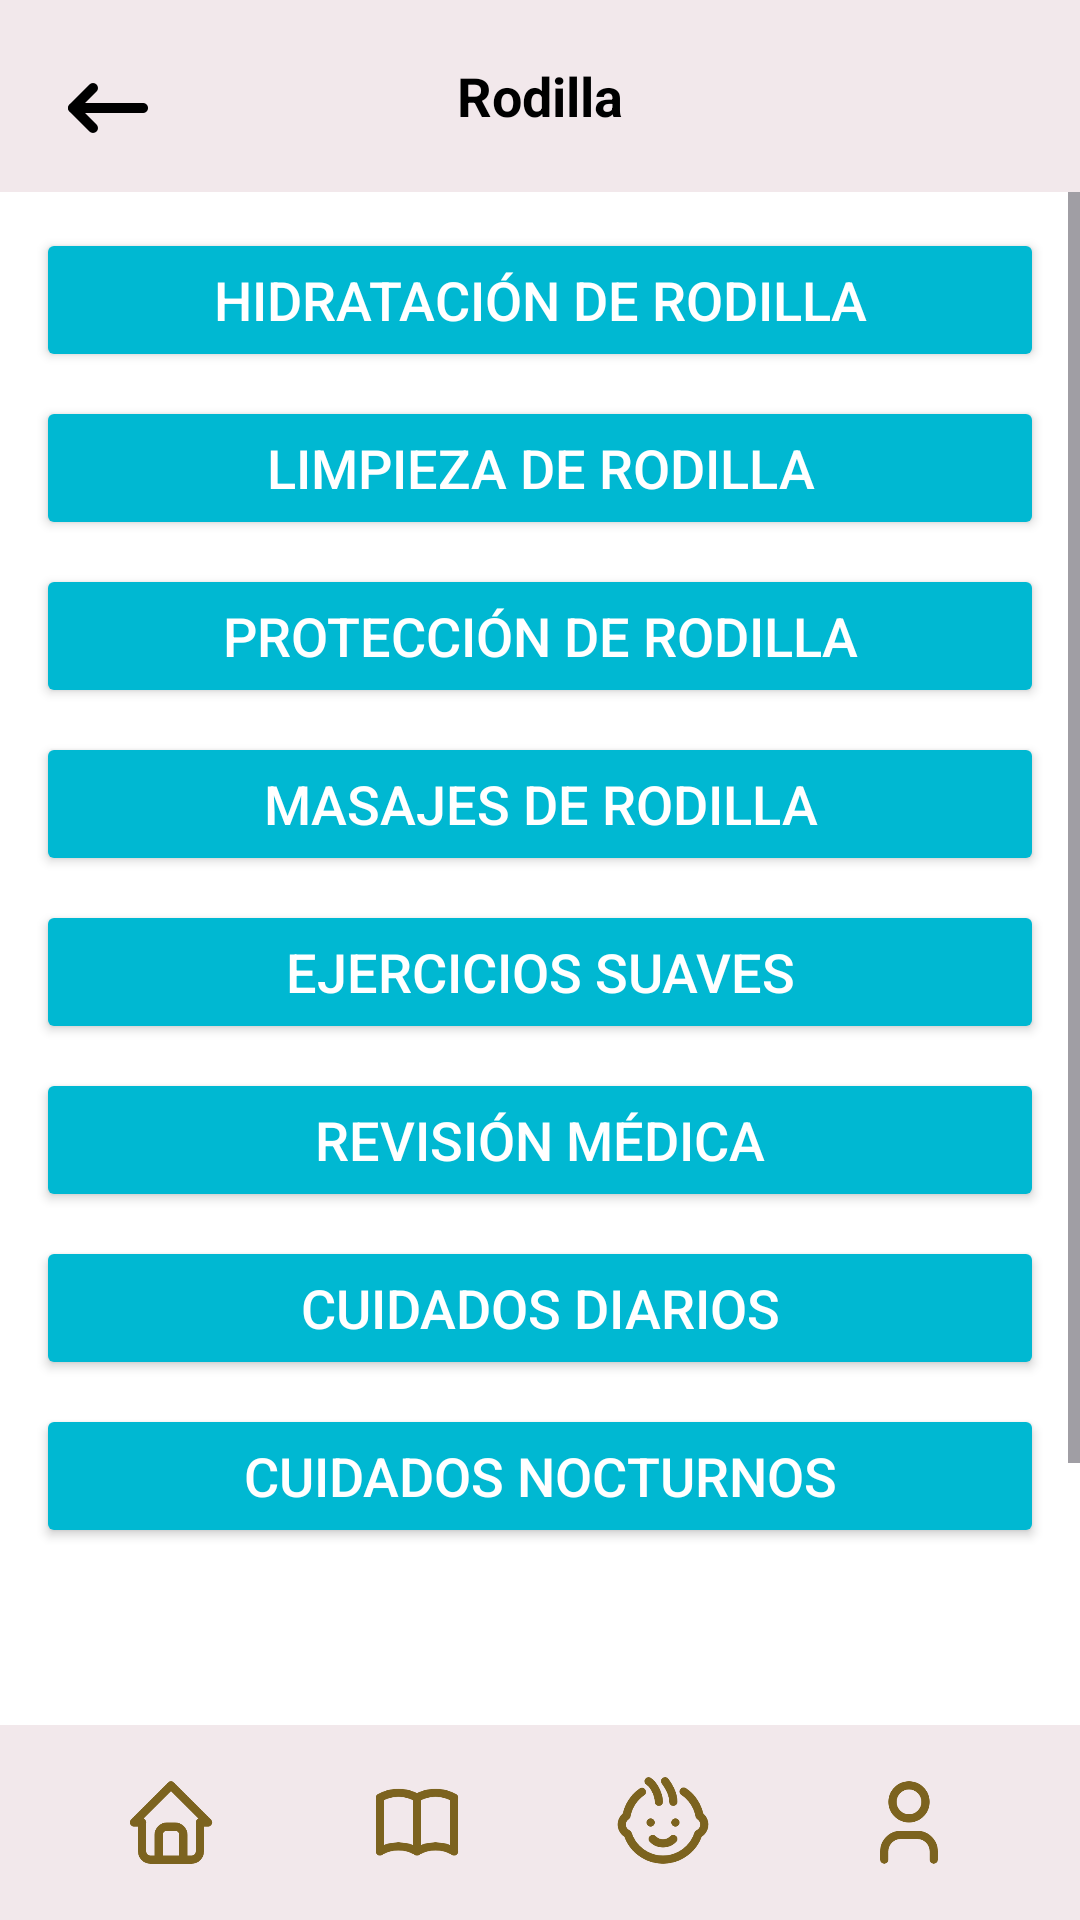

Icons on this 1080*1920 Android screen, each with its box as (left=x1, top=y1, right=x2, bottom=y2):
book: (left=376, top=1789, right=458, bottom=1856)
home: (left=130, top=1781, right=212, bottom=1864)
moodboy: (left=617, top=1777, right=709, bottom=1864)
personaa: (left=880, top=1781, right=938, bottom=1864)
